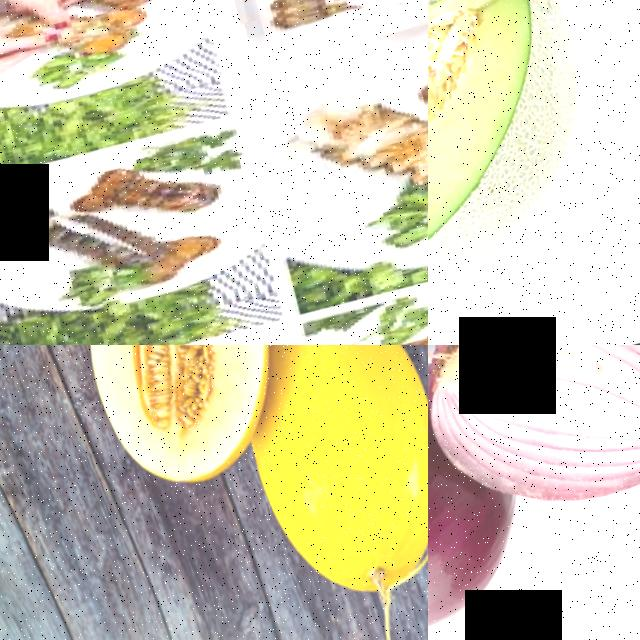lobster tails: (285, 90, 428, 249), (73, 143, 229, 240), (255, 0, 428, 44)
melon: (428, 0, 620, 334), (255, 345, 428, 612), (46, 345, 280, 496)
onion: (428, 345, 640, 531), (428, 345, 480, 640)
